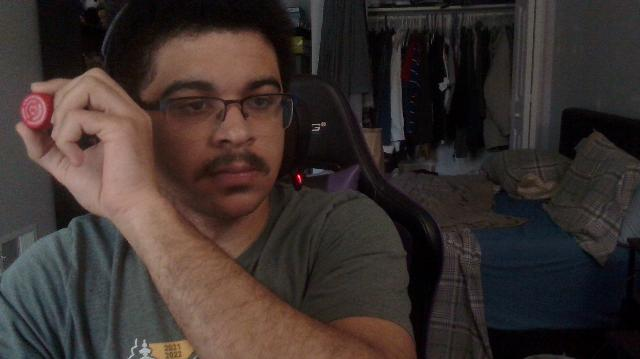cap: (21, 93, 54, 131)
